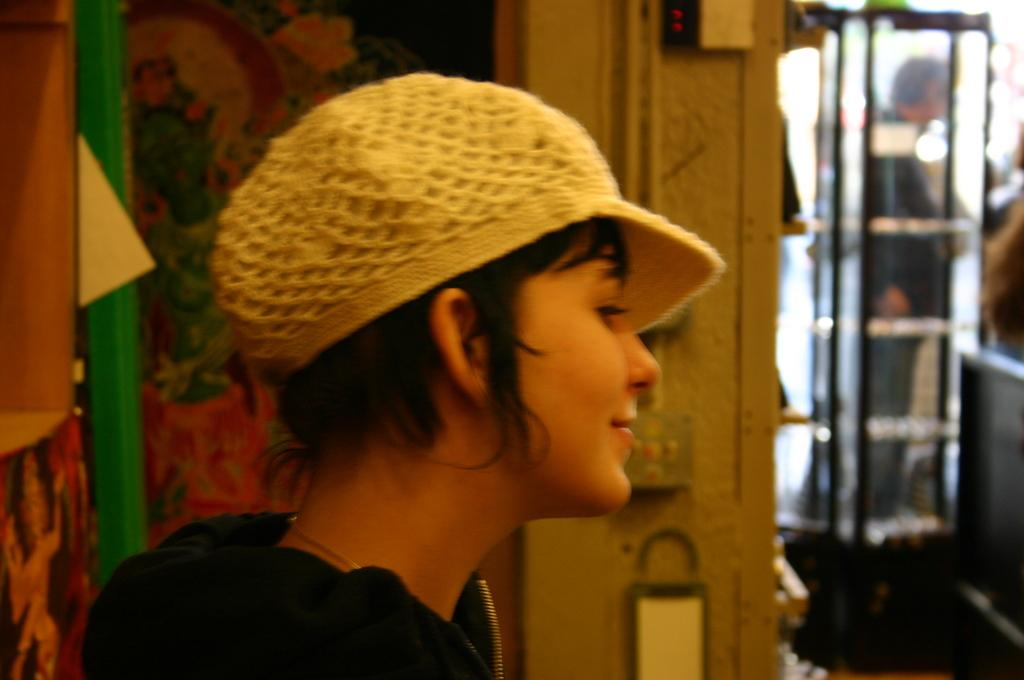Hat: (210, 70, 722, 384)
